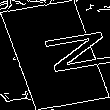N_W: (12, 29, 98, 81)
